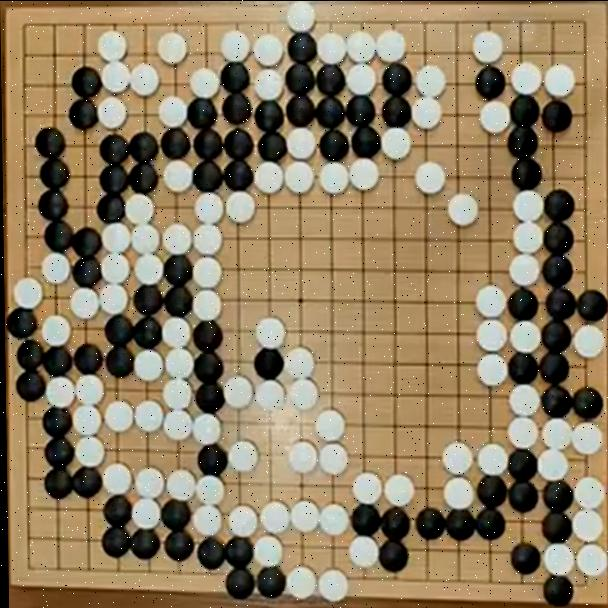corners: (559, 564, 603, 602), (8, 9, 46, 46), (558, 7, 598, 42), (11, 550, 50, 580)
